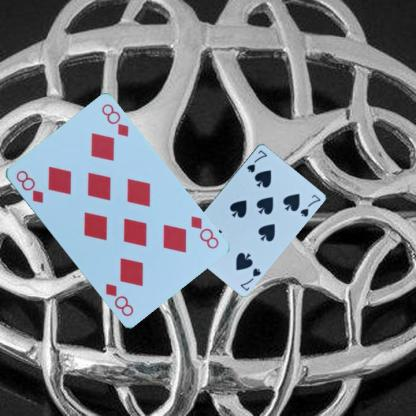7s: (244, 148, 269, 174), (238, 265, 262, 292)
8d: (188, 213, 219, 250), (13, 168, 44, 204)
